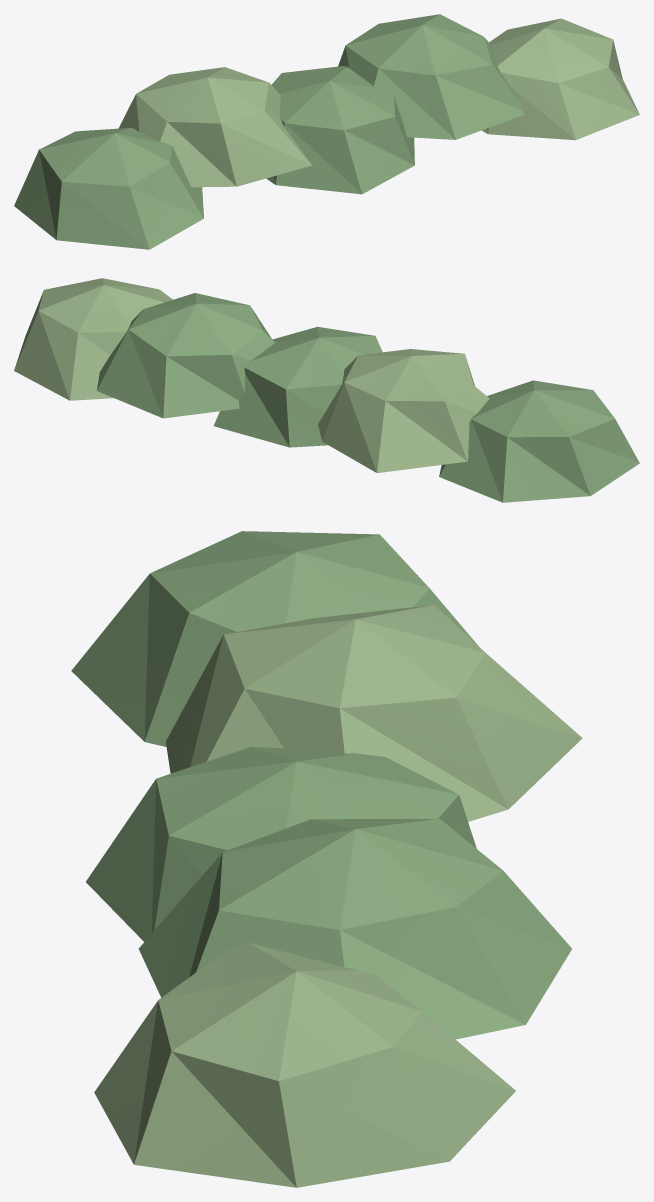
3 renders of one model, top to bottom at view 1: azimuth 30°, elevation 25°; view 2: azimuth 150°, elevation 25°; view 3: azimuth 270°, elevation 25°, orthographic. The views are drawn at different scales.
Parts seen in each view (by area): view 1: hedge_low; view 2: hedge_low; view 3: hedge_low.
Part boxes in pixels (<box>): hedge_low: <box>14,14,639,249</box>; hedge_low: <box>14,278,639,502</box>; hedge_low: <box>71,531,582,1187</box>.
Bounding box in the file's own units: 2.31 × 0.4291 × 0.8663.
